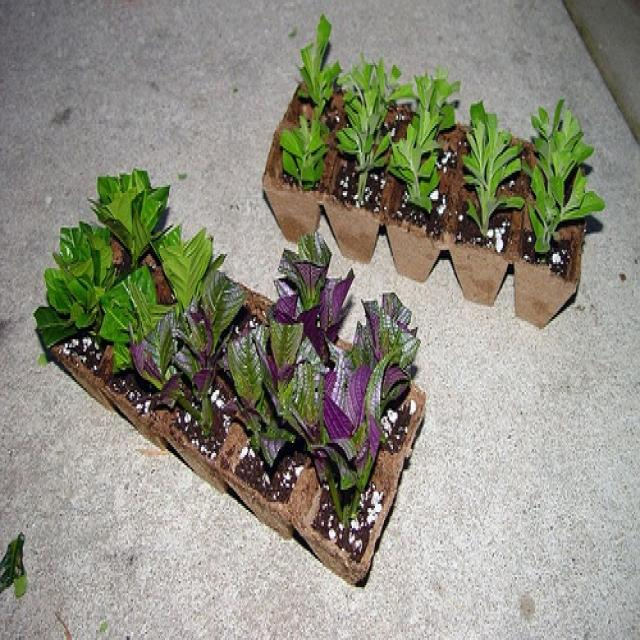pottedplant: (32, 161, 426, 587), (261, 10, 604, 329)
